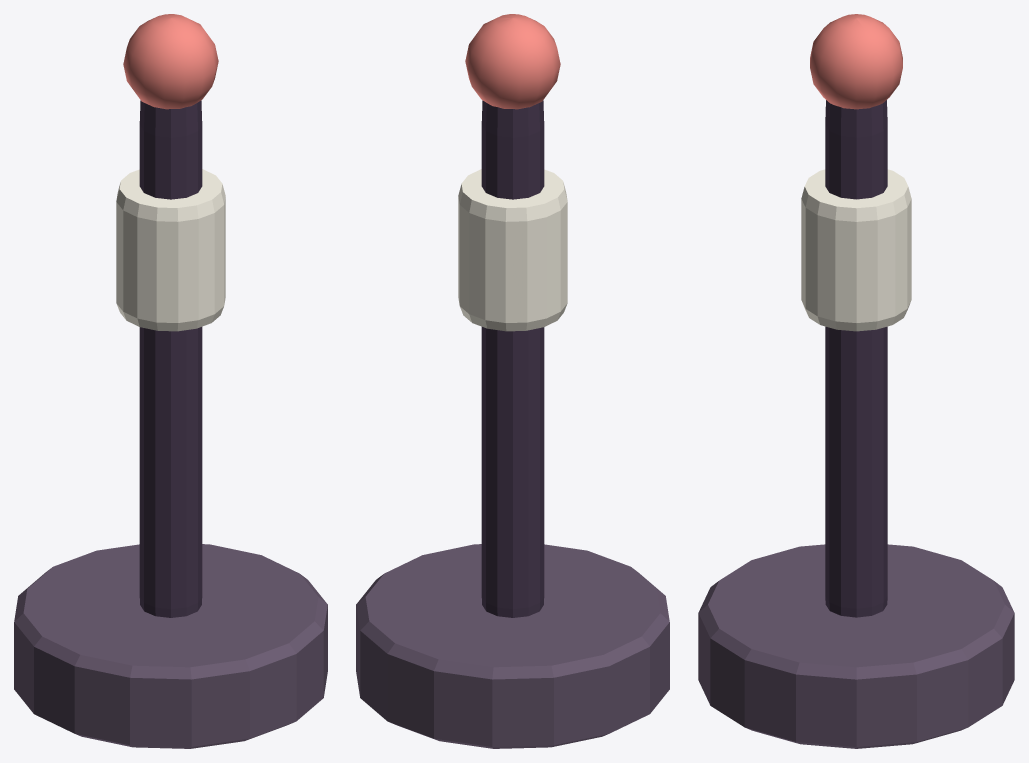
Rendered from bollard.glb.
3 views of the same model, side by side, from view 1: azimuth 30°, elevation 25°; view 2: azimuth 150°, elevation 25°; view 3: azimuth 270°, elevation 25° (orthographic).
Parts seen in each view (by area): view 1: model; view 2: model; view 3: model.
Boxes of the visible parts, x1,y1,x2,y2 form: model: [14, 14, 327, 748]; model: [356, 14, 669, 748]; model: [698, 14, 1014, 748].
Bounding box in the file's own units: 0.3 × 0.7 × 0.3.
